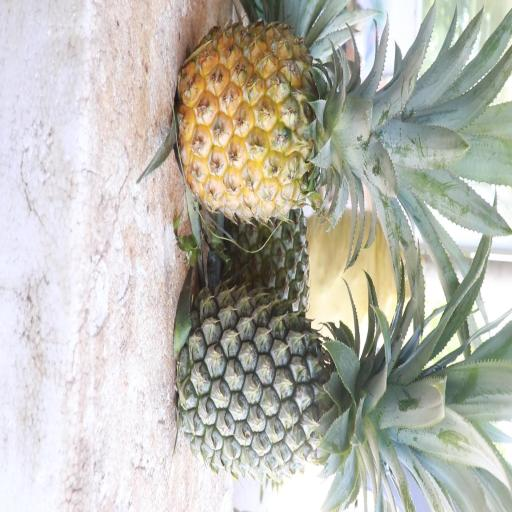Pineapple - v8 v1: (172, 15, 435, 232)
